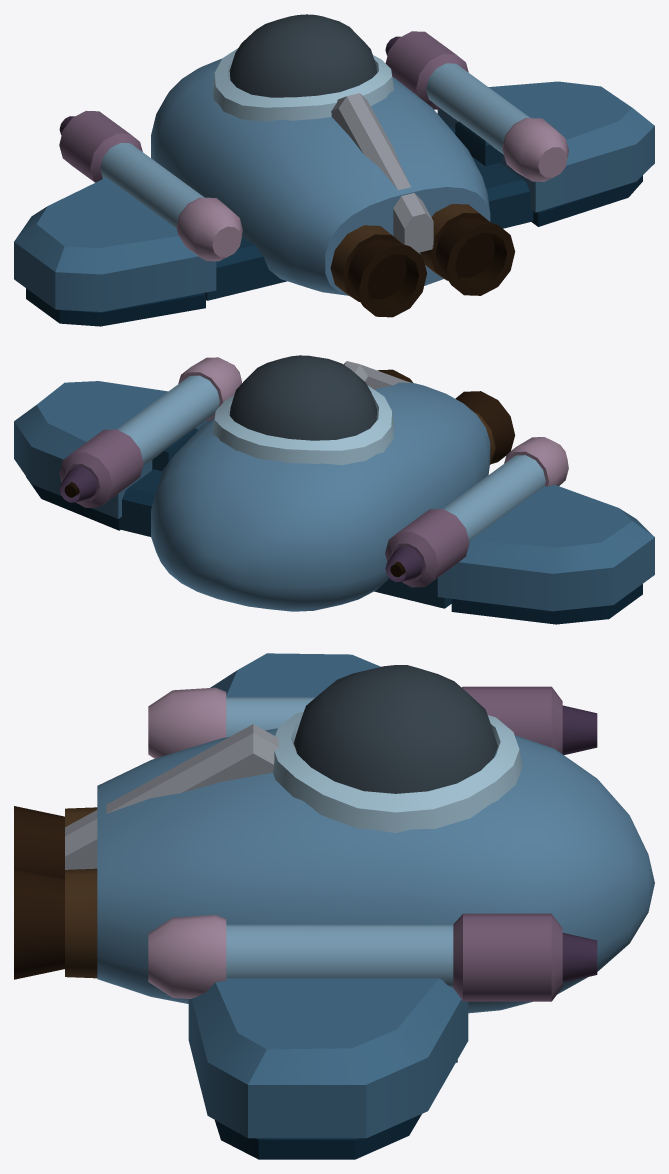
File: companion-ship-gerund.glb
The picture shows the model from 3 angles, top to bottom: view 1: azimuth 30°, elevation 25°; view 2: azimuth 150°, elevation 25°; view 3: azimuth 270°, elevation 25°; orthographic projection. The views are drawn at different scales.
Visible parts, largest first — view 1: sidekick-companion-ship-gerund; view 2: sidekick-companion-ship-gerund; view 3: sidekick-companion-ship-gerund.
Boxes of the visible parts, <box> form: sidekick-companion-ship-gerund: <box>14,14,654,326</box>; sidekick-companion-ship-gerund: <box>14,355,654,624</box>; sidekick-companion-ship-gerund: <box>14,653,654,1159</box>.
Bounding box in the file's own units: 1.53 × 0.5187 × 0.9933.
